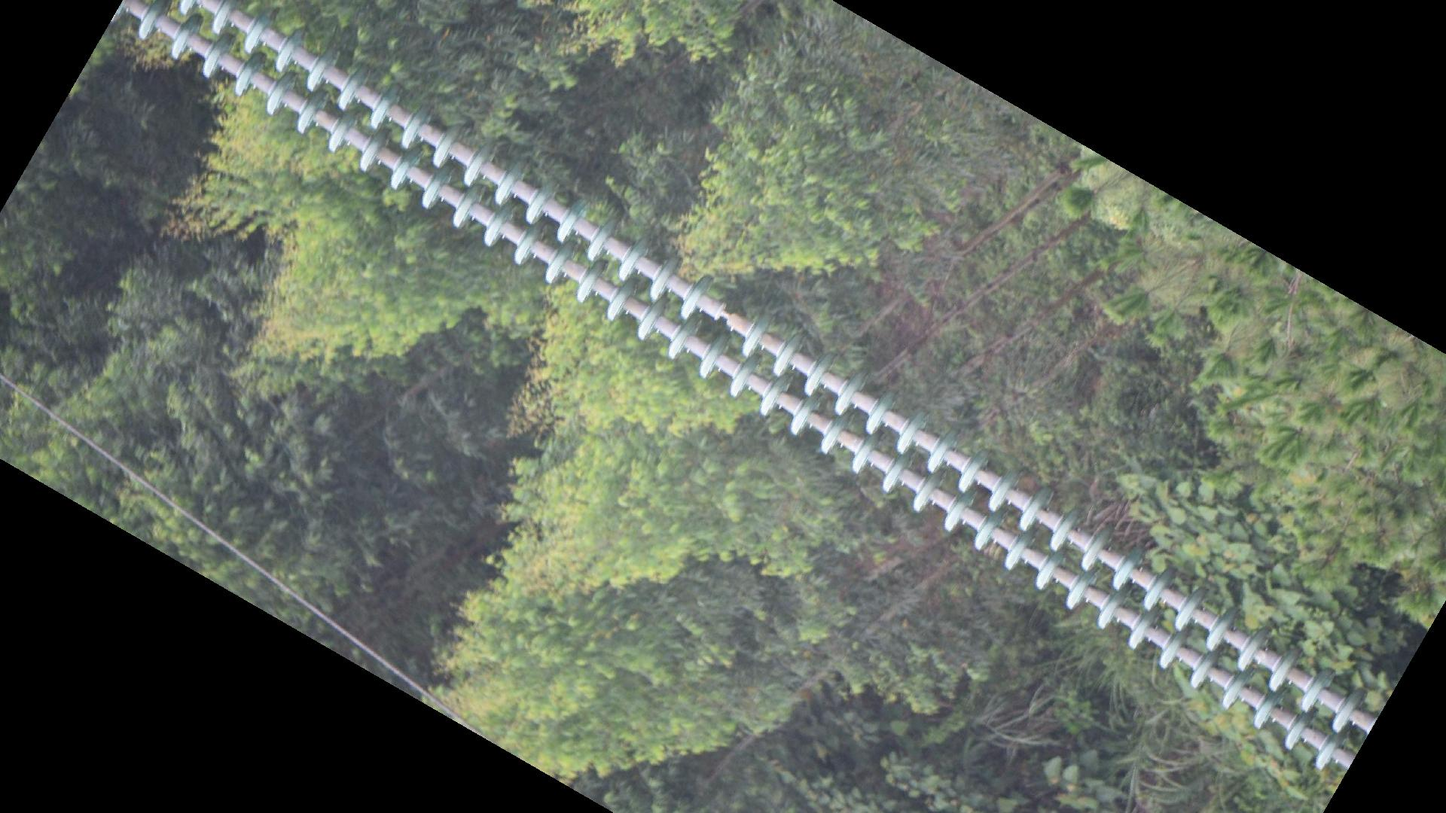insulator: (96, 1, 1376, 778)
insulator_stringdrop: (676, 269, 779, 364)
